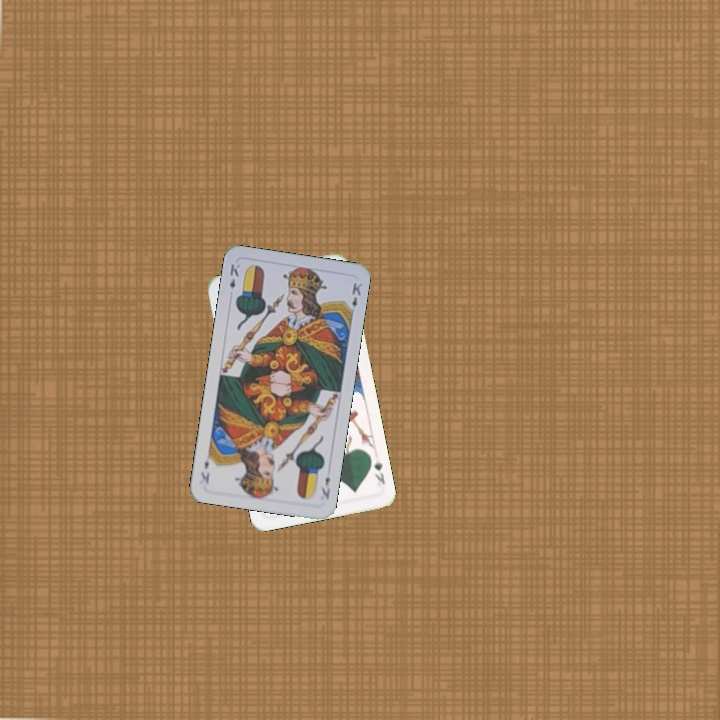EK: (225, 260, 242, 292), (317, 473, 333, 502)
GK: (370, 455, 387, 486)
